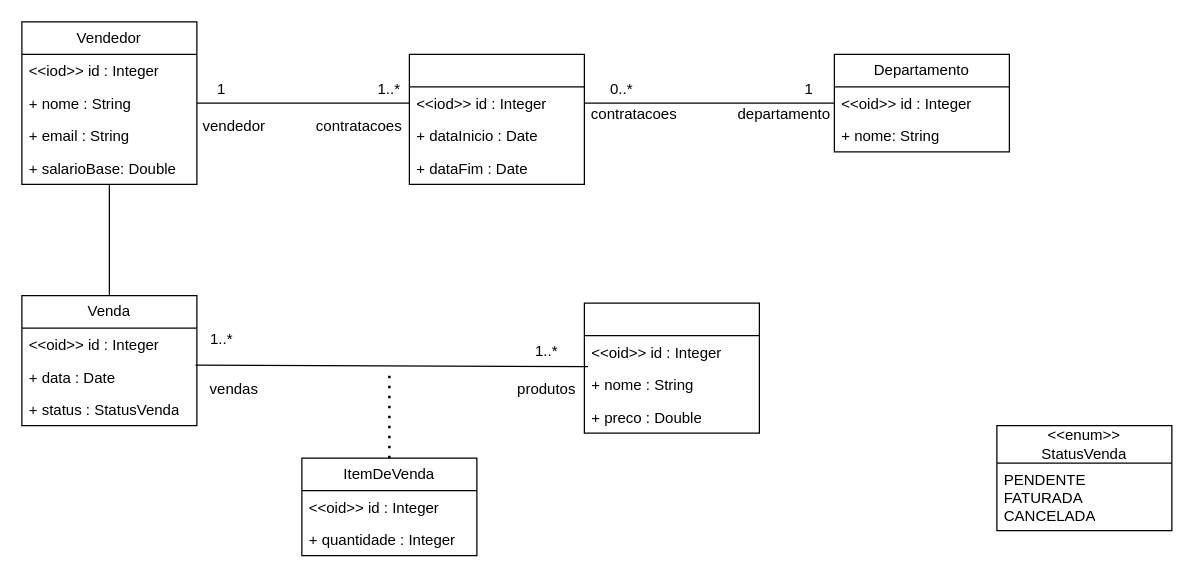
Image size: 1194x581. Some labels were removed from this diagram. The shapes that lost their labels are listed below. From the top down, each one's box as (x1, y1, x2, y2) in pixels, then its label:
(408, 53, 584, 184): Contratacao
(583, 302, 759, 433): Produto
